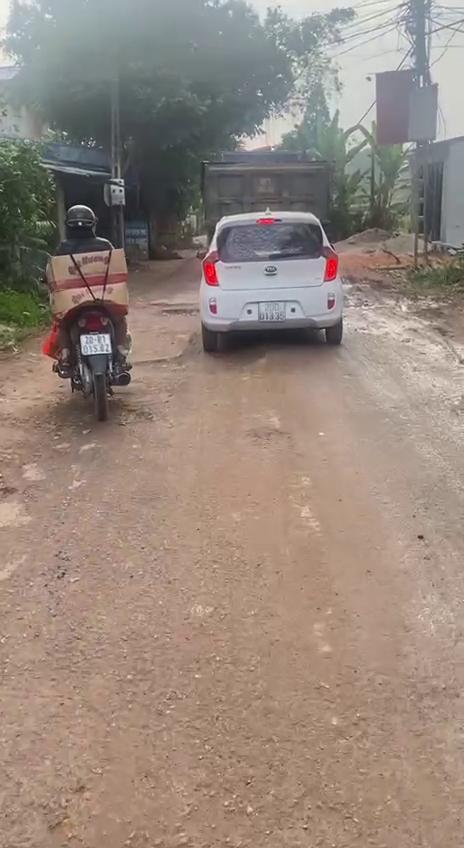pothole: (127, 346, 197, 381), (110, 399, 155, 427)
